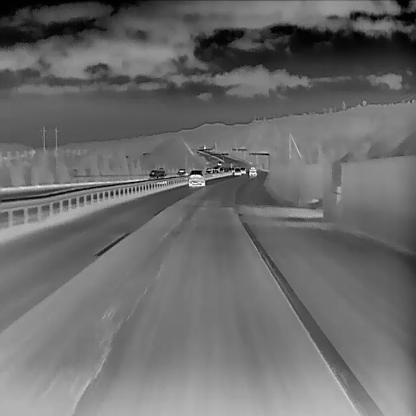car: (187, 168, 206, 186), (147, 167, 166, 184), (175, 168, 187, 179), (248, 166, 256, 176), (234, 167, 241, 176), (239, 166, 246, 174)
